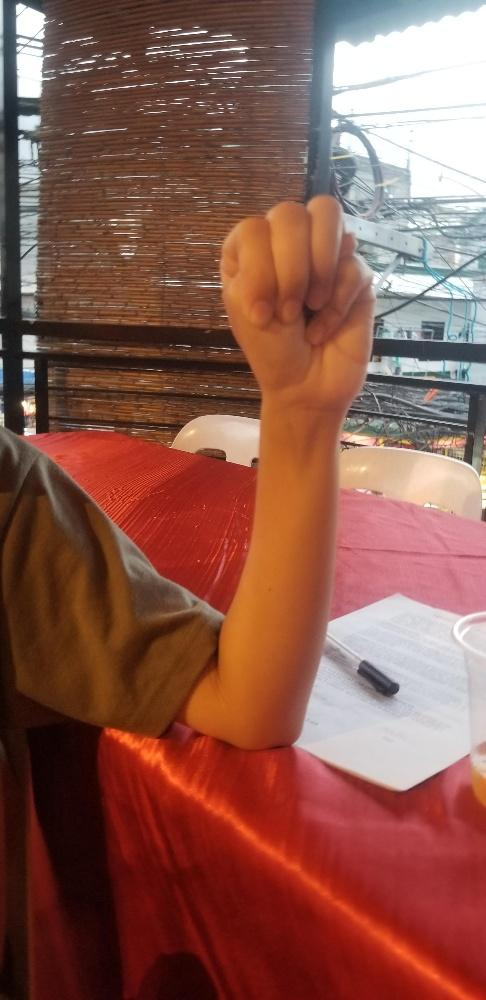m: (218, 190, 376, 402)
